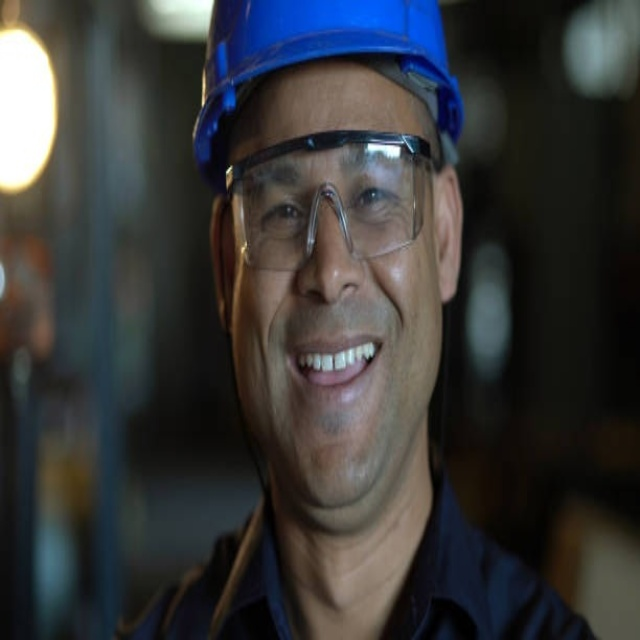Gafas: (223, 135, 438, 274)
Sin_mascara: (283, 324, 384, 456)
